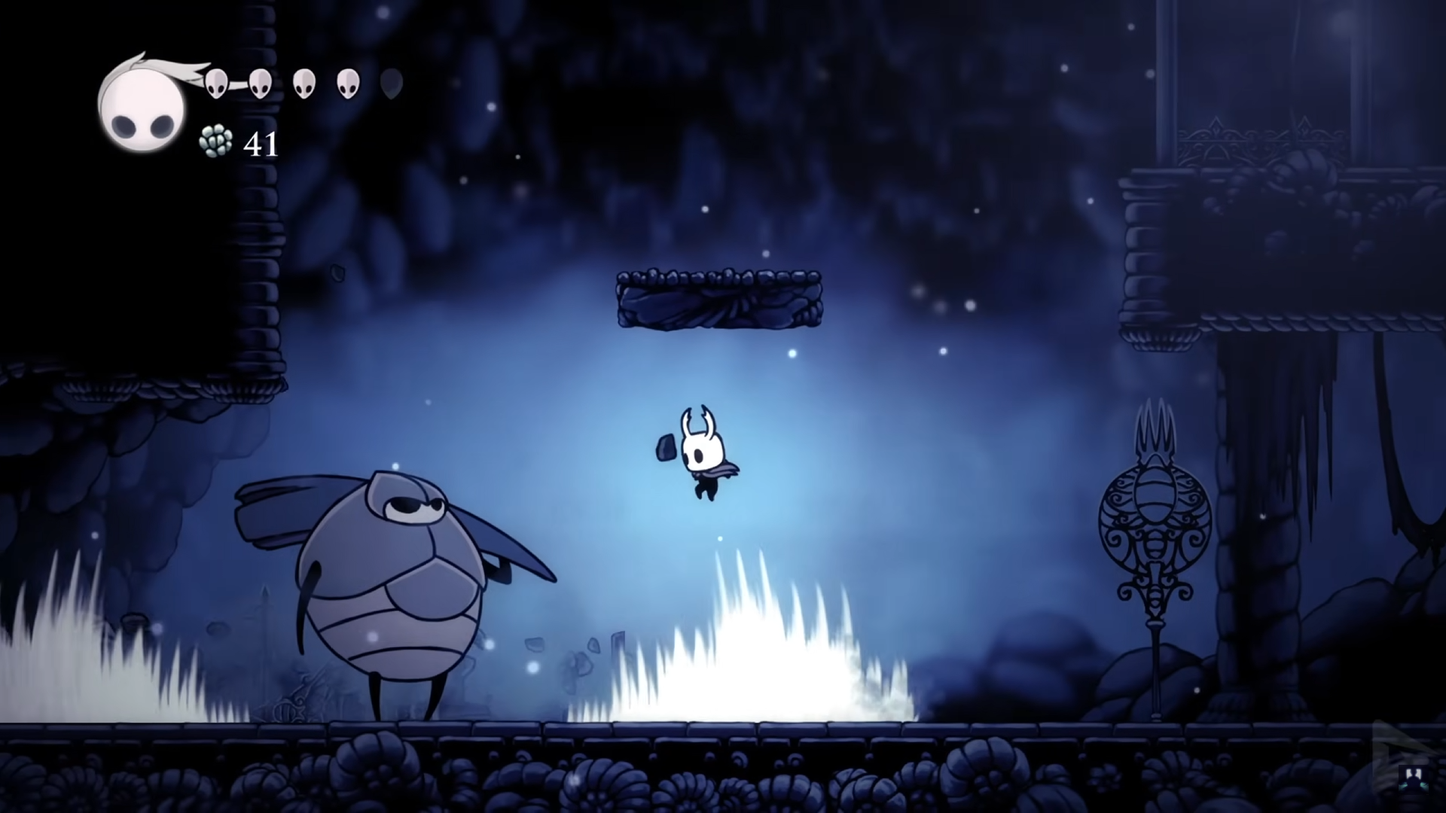HK: (675, 402, 734, 507)
